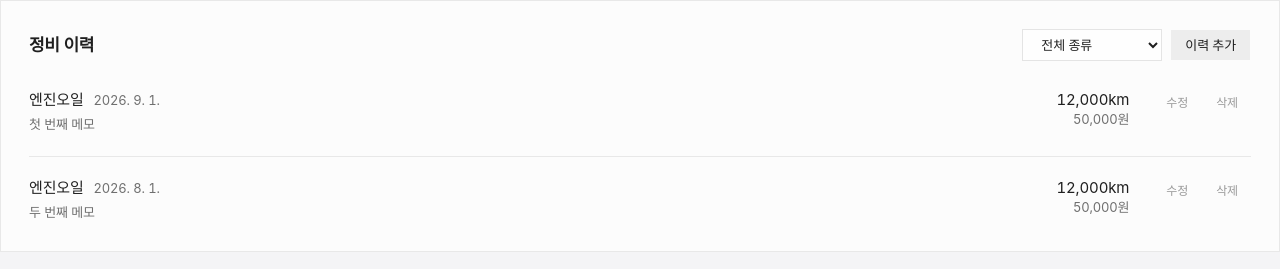
Test case: MaintenanceSection › 정비 종류 필터를 바꾸는 동안 앞 필터의 목록을 새 필터 이름 아래 보이지 않는다
Expected: the text "첫 번째 메모" is shown, left=29, top=116, right=95, bottom=132
Select "타이어" in the dropdown named "정비 종류로 거르기": (1092, 45) left=1022, top=29, right=1162, bottom=61
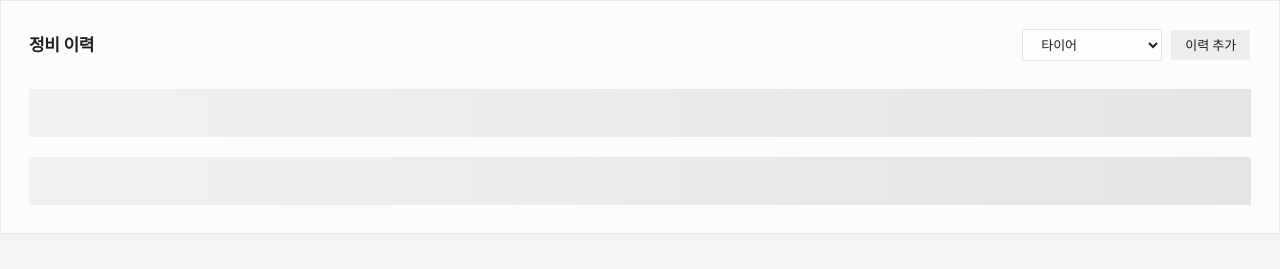
Expected: the text "첫 번째 메모" is gone
